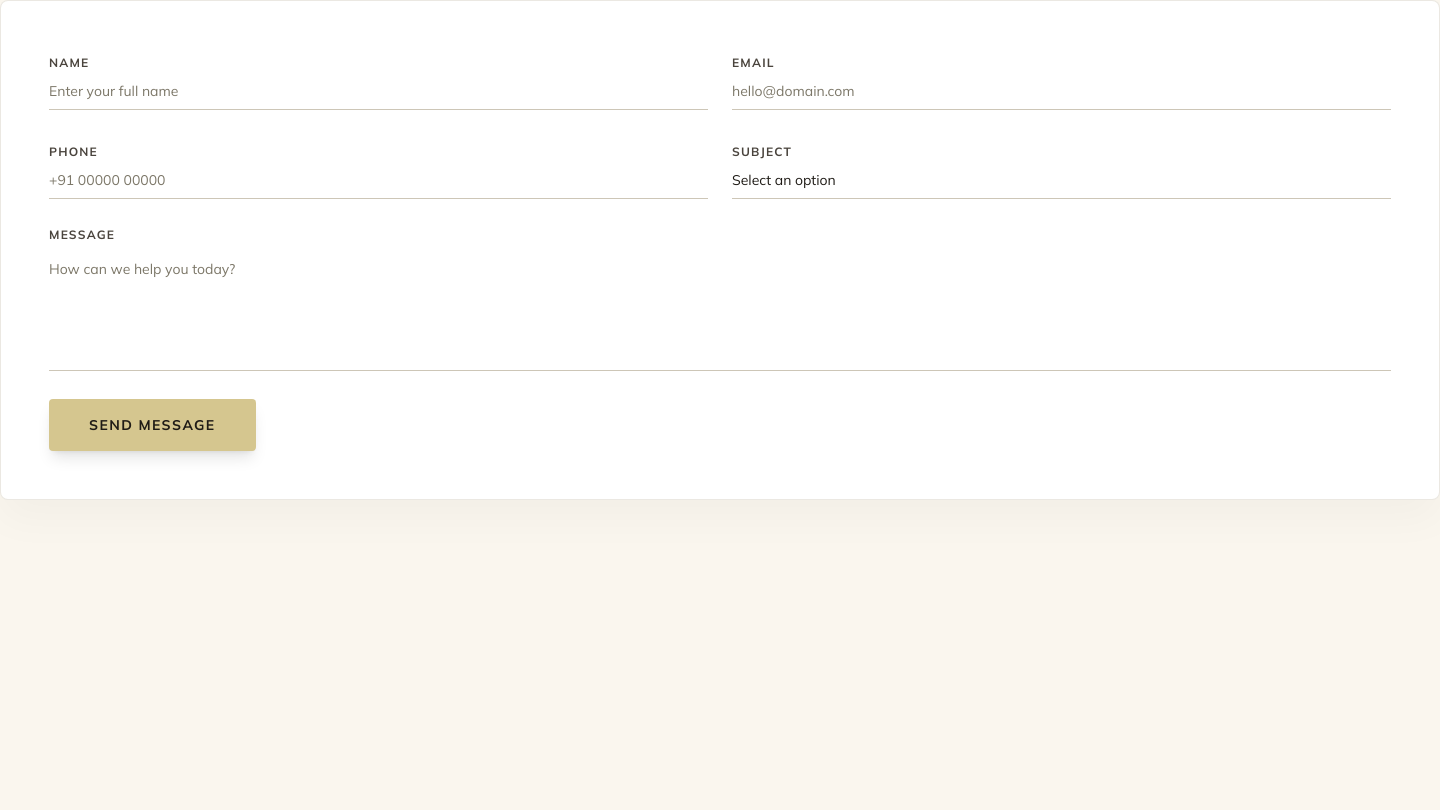
Test: ContactForm › Zod validation › shows an email format error for an invalid email address
Type "not-an-email" into the field with test id "contact-email-input" at (1062, 92), box [732, 73, 1391, 110]
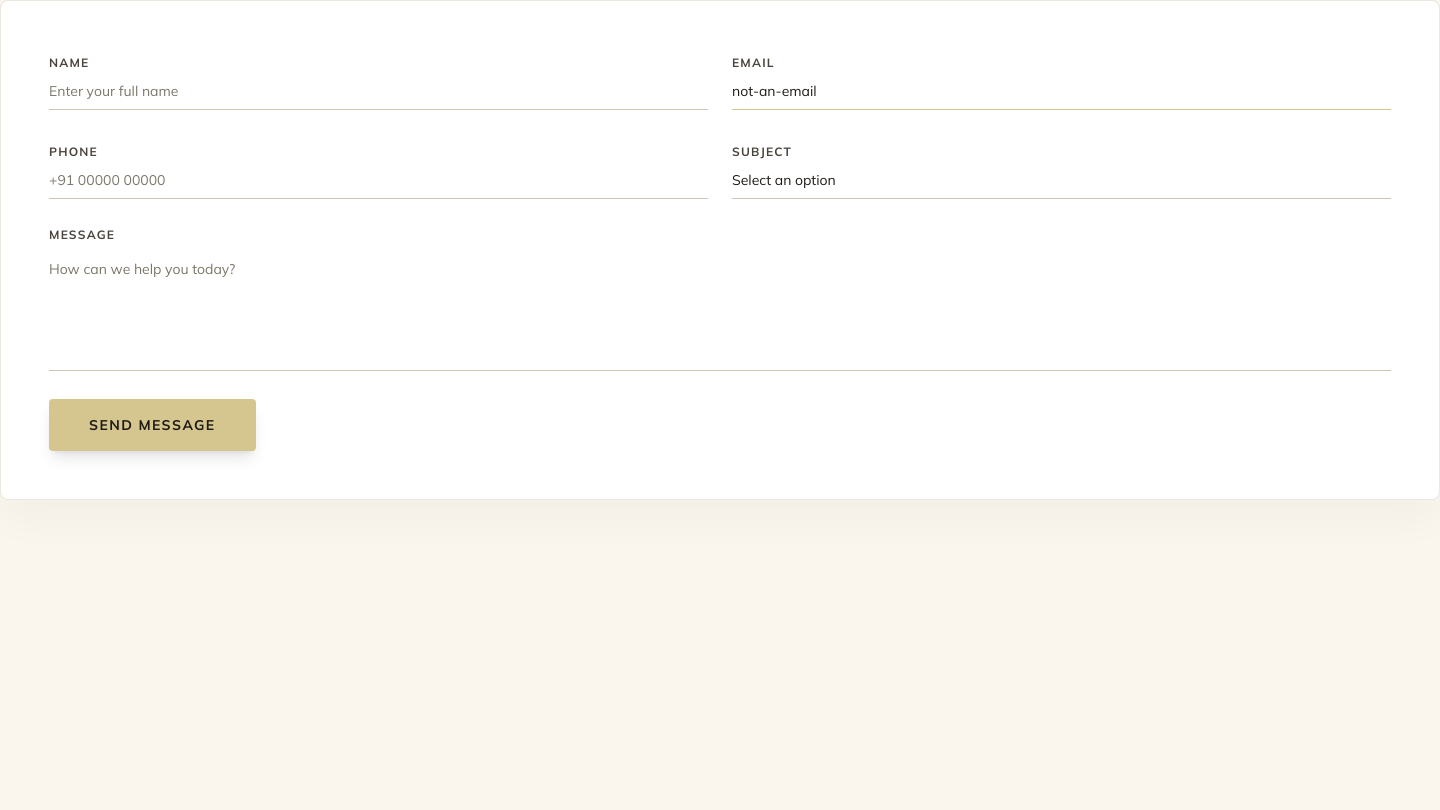
Click the button with test id "contact-submit-button" at (152, 425), box [49, 399, 256, 451]
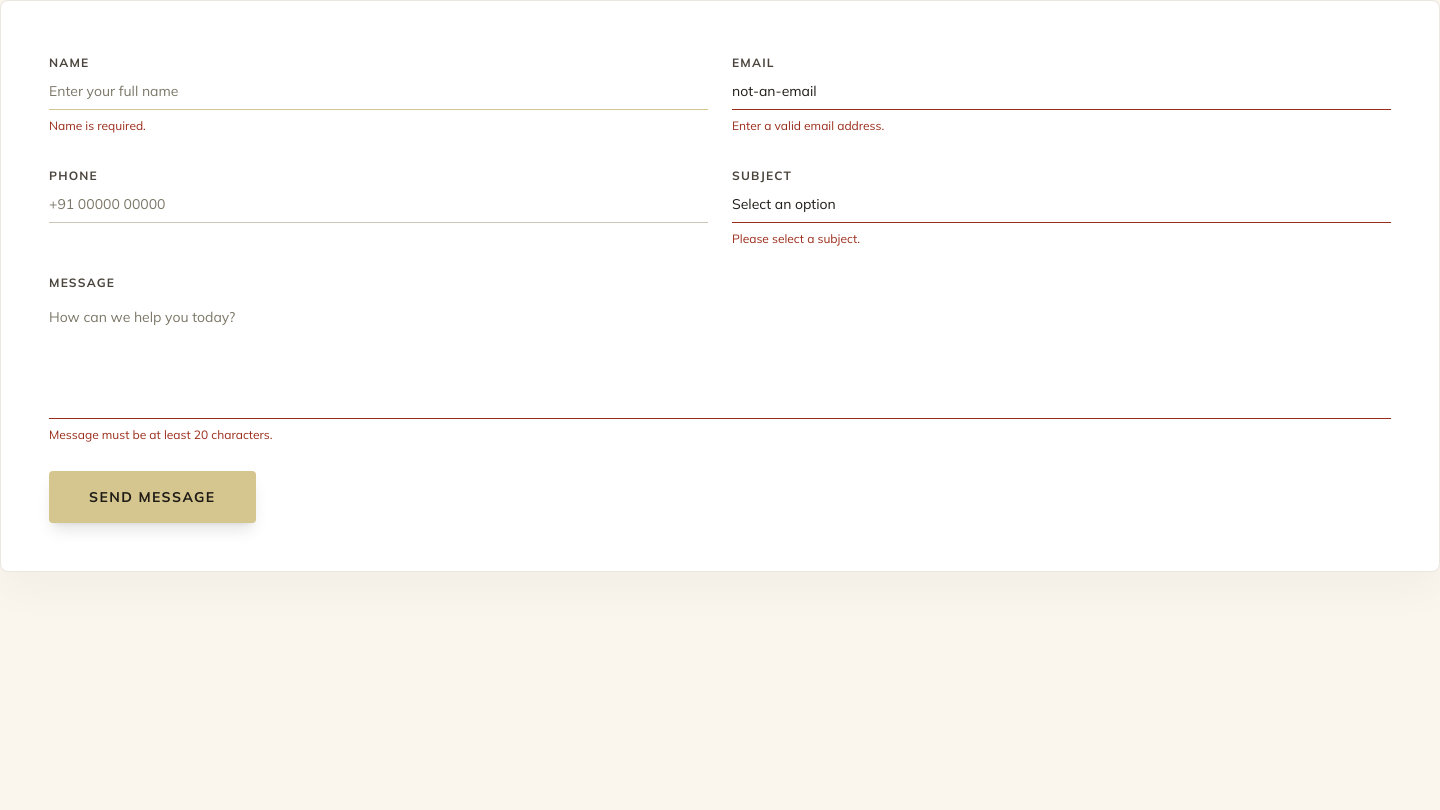
Expected: the text with test id "contact-email-error" reads "Enter a valid email address.", [732, 118, 884, 133]
